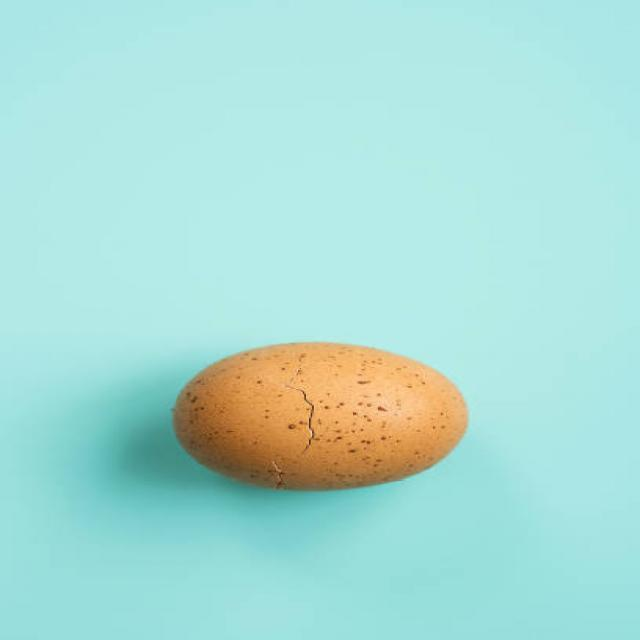biodegradable: (176, 342, 468, 493)
